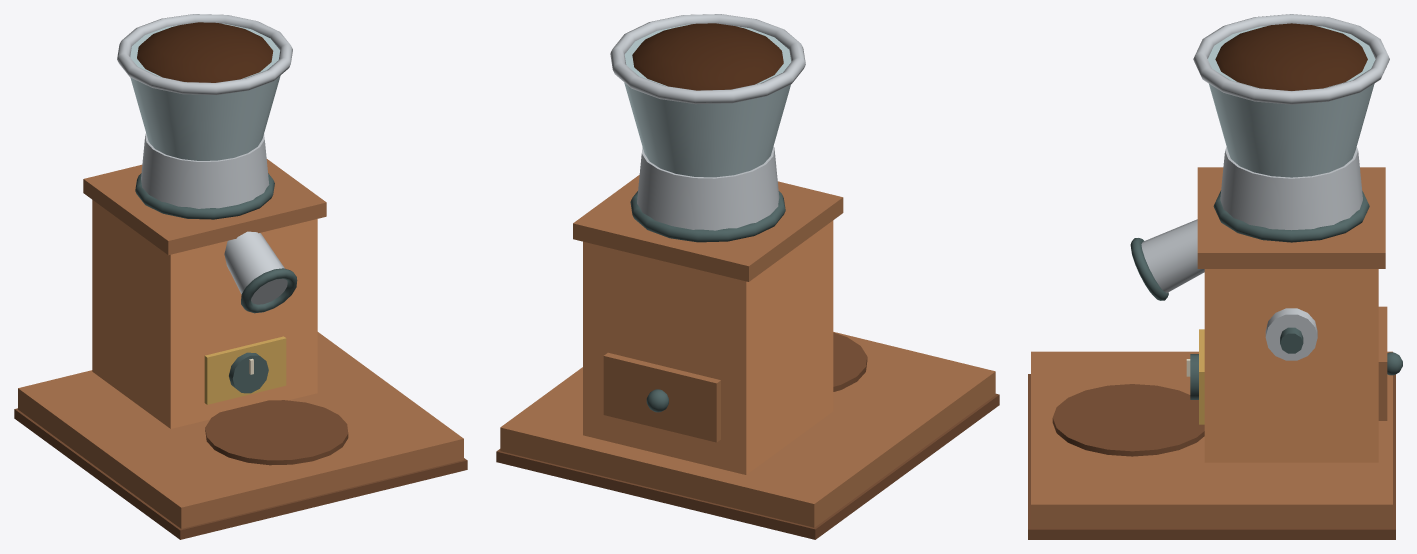
Rendered from hand_grinder.glb.
3 renders of one model, left to right at view 1: azimuth 30°, elevation 25°; view 2: azimuth 150°, elevation 25°; view 3: azimuth 270°, elevation 25°, orthographic. The views are drawn at different scales.
Visible parts, largest first — view 1: Base, Body, Hopper, BodyCap, DosingPad, BeanHeap, BurrHousing, BaseTrim, HopperRim, FrontPlate, Spout, HousingRing (+2 smaller); view 2: Body, Base, Hopper, BodyCap, BeanHeap, BurrHousing, Drawer, BaseTrim, HopperRim, HousingRing, DosingPad; view 3: Base, Body, Hopper, BodyCap, DosingPad, BeanHeap, BurrHousing, HopperRim, BaseTrim, Spout, HousingRing, CrankBoss (+4 smaller).
Boxes of the visible parts, box(x1,y1,x2,y2) form: Base: box(18, 332, 463, 528); Body: box(92, 200, 317, 428); Hopper: box(130, 23, 280, 160); BodyCap: box(83, 159, 326, 255); DosingPad: box(205, 400, 348, 465); BeanHeap: box(137, 22, 273, 82); BurrHousing: box(141, 133, 269, 208); BaseTrim: box(14, 408, 467, 539); HopperRim: box(117, 14, 292, 95); FrontPlate: box(204, 336, 286, 404); Spout: box(224, 231, 287, 304); HousingRing: box(135, 173, 274, 219); Body: box(583, 220, 833, 474); Base: box(500, 332, 995, 527); Hopper: box(624, 24, 791, 177); BodyCap: box(573, 175, 843, 281); BeanHeap: box(632, 23, 783, 90); BurrHousing: box(637, 146, 779, 230); Drawer: box(603, 352, 720, 442); BaseTrim: box(496, 393, 999, 539); HopperRim: box(610, 14, 805, 104); HousingRing: box(630, 191, 785, 242); DosingPad: box(833, 332, 867, 391); Base: box(1031, 351, 1392, 528); Body: box(1204, 269, 1378, 462); Hopper: box(1207, 26, 1375, 177); BodyCap: box(1197, 167, 1385, 268); DosingPad: box(1052, 384, 1204, 456); BeanHeap: box(1215, 23, 1367, 90); BurrHousing: box(1220, 147, 1362, 230); HopperRim: box(1193, 14, 1389, 104); BaseTrim: box(1028, 374, 1395, 539); Spout: box(1141, 219, 1204, 293); HousingRing: box(1213, 191, 1369, 242); CrankBoss: box(1265, 308, 1317, 360).
Bounding box in the file's own units: 0.254 × 0.3231 × 0.2588.
